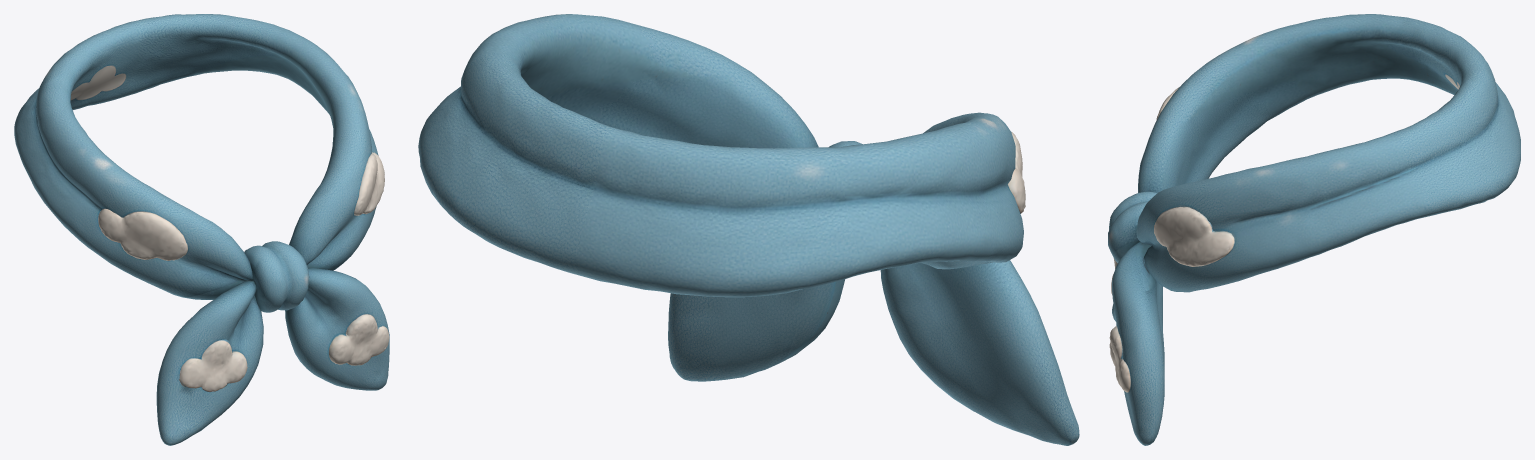
The model's file is mem_ac_cloudscarf.fbx.
The picture shows the model from 3 angles, left to right: view 1: azimuth 30°, elevation 25°; view 2: azimuth 150°, elevation 25°; view 3: azimuth 270°, elevation 25°; orthographic projection. The views are drawn at different scales.
Parts seen in each view (by area): view 1: tripo_node_4573257c; view 2: tripo_node_4573257c; view 3: tripo_node_4573257c.
Boxes of the visible parts, x1,y1,x2,y2 form: tripo_node_4573257c: (14, 14, 389, 445); tripo_node_4573257c: (418, 14, 1079, 445); tripo_node_4573257c: (1108, 14, 1520, 445).
Size of the model in its own units: 0.998 by 0.8574 by 0.998.
